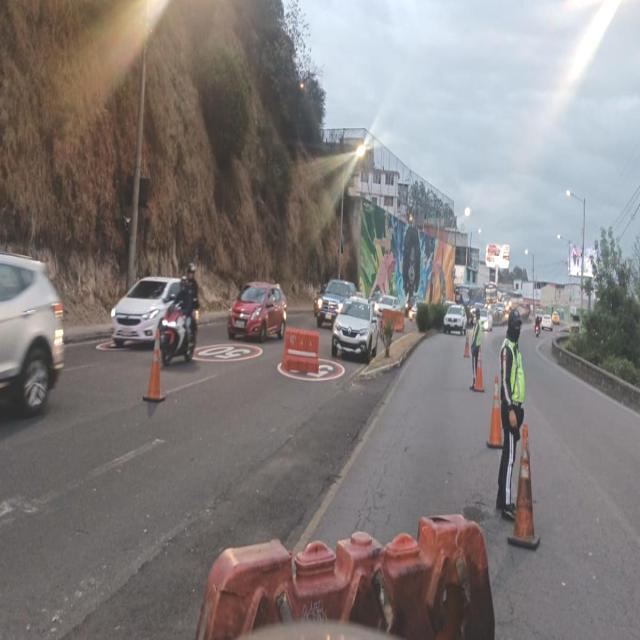MOTORCYCLE: (162, 302, 199, 360)
SED: (224, 271, 286, 340)
SUV: (0, 244, 63, 452), (331, 296, 376, 364)
